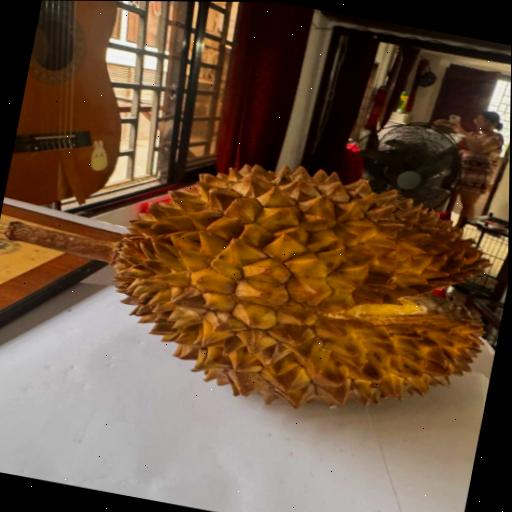rot: (0, 100, 511, 453)
